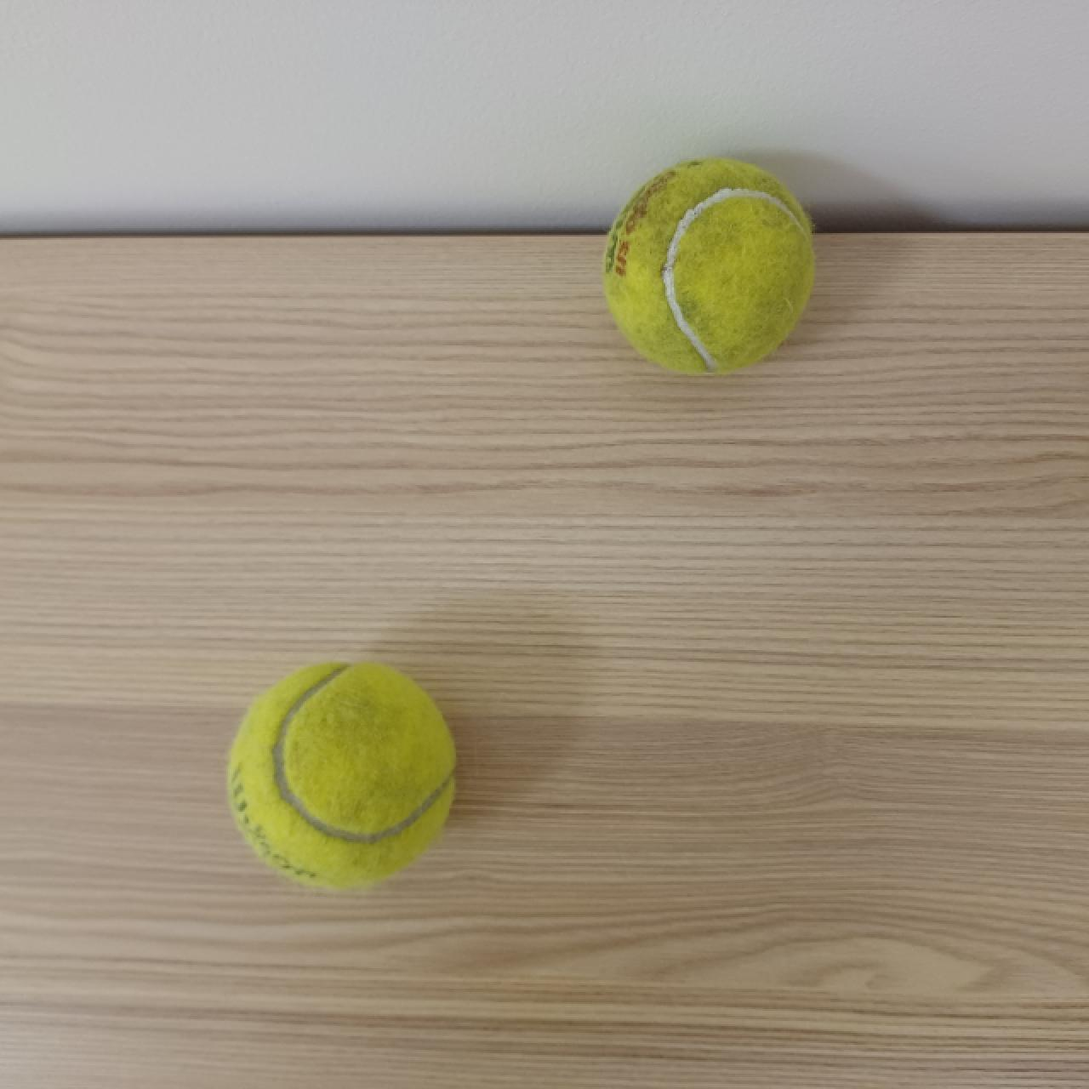tennis-ball: (229, 657, 458, 889), (603, 155, 814, 376)
